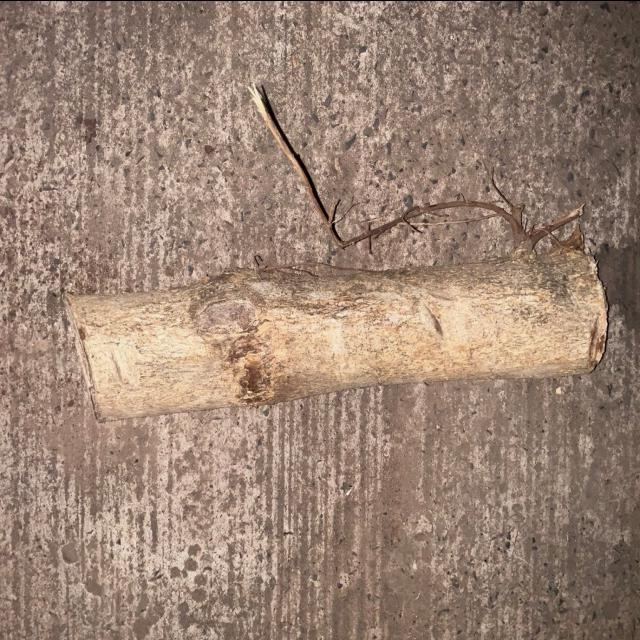General: (2, 2, 639, 639)
Pathological: (62, 236, 612, 424)
Sharps: (245, 79, 590, 262)
